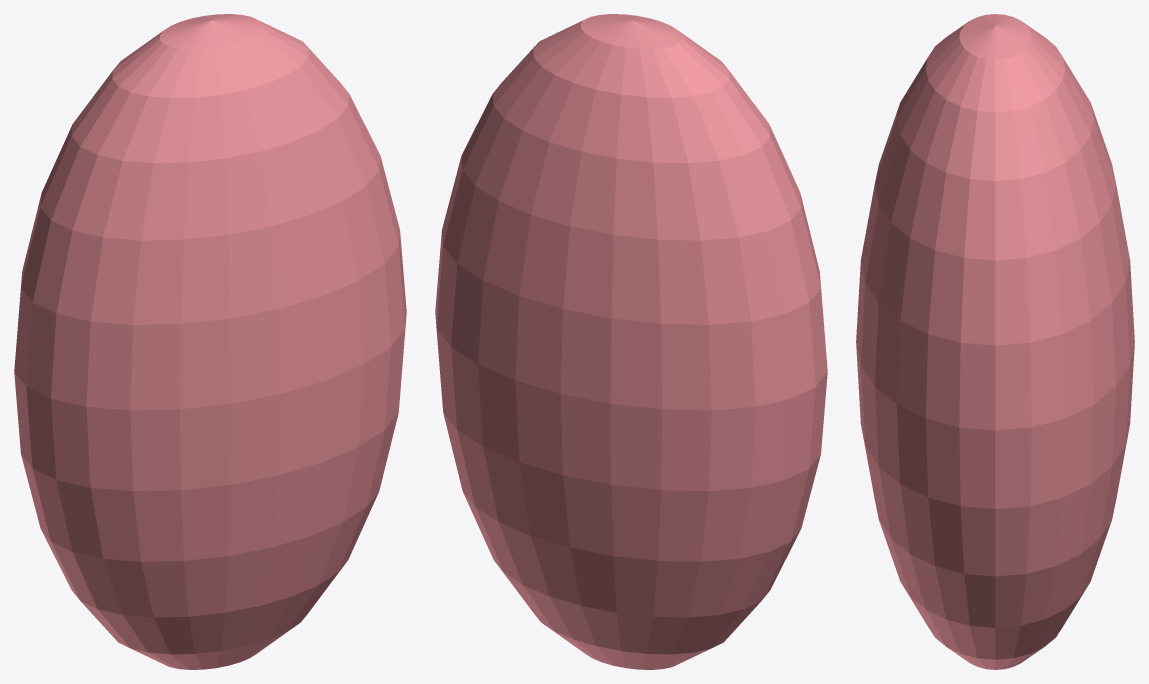
Rendered from mitochondria.glb.
3 renders of one model, left to right at view 1: azimuth 30°, elevation 25°; view 2: azimuth 150°, elevation 25°; view 3: azimuth 270°, elevation 25°, orthographic.
Parts seen in each view (by area): view 1: Sphere; view 2: Sphere; view 3: Sphere.
Part boxes in pixels (x1=…): Sphere: x1=14, y1=14, x2=406, y2=669; Sphere: x1=435, y1=14, x2=827, y2=669; Sphere: x1=856, y1=14, x2=1134, y2=669.
Size of the model in its own units: 0.06 by 0.1 by 0.04.
